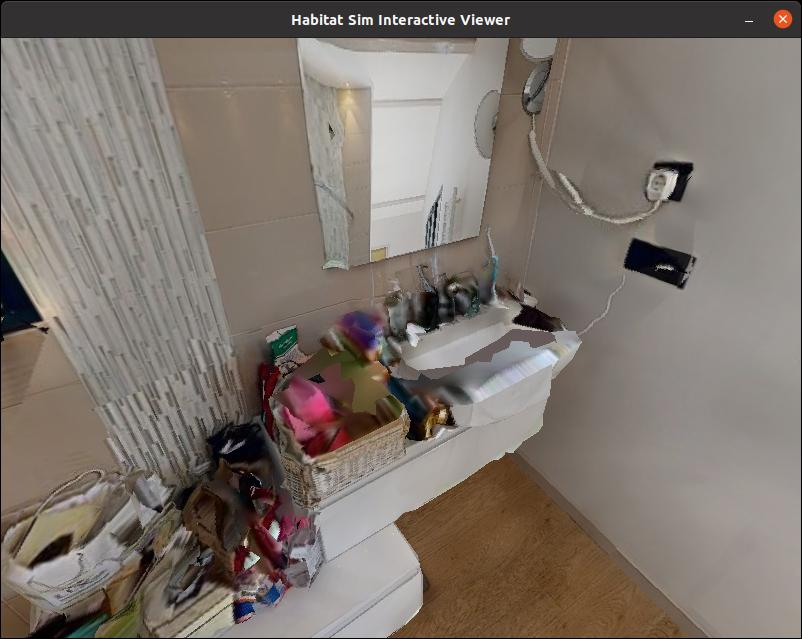sink: (385, 273, 544, 414)
